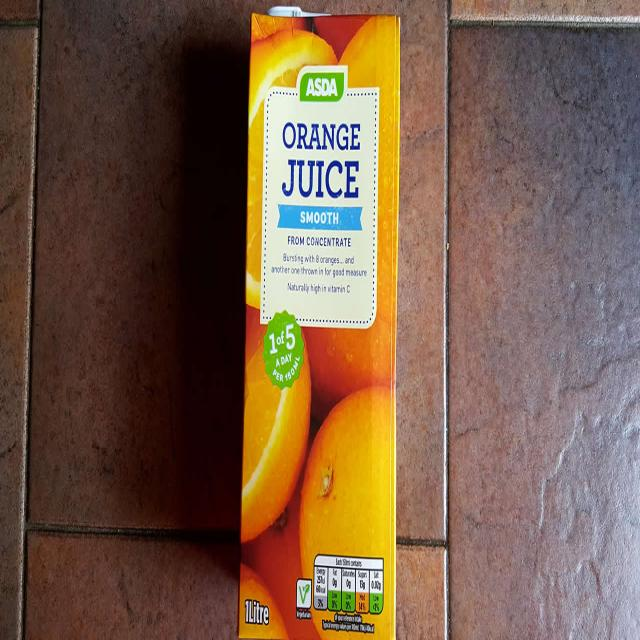cardboard: (236, 7, 400, 640)
